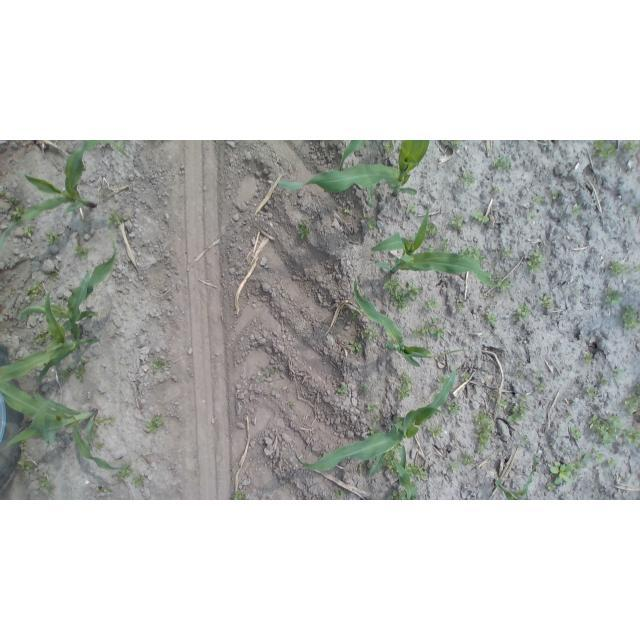Maize: (294, 363, 458, 478), (0, 141, 128, 249), (1, 375, 124, 474), (371, 202, 501, 286), (352, 278, 472, 366), (19, 235, 117, 342), (1, 288, 100, 386), (276, 140, 432, 198), (494, 453, 538, 500), (389, 445, 419, 500)
Weeds: (548, 451, 590, 488), (383, 274, 422, 312), (587, 413, 623, 444), (474, 410, 495, 454), (412, 318, 446, 339), (508, 394, 531, 422), (591, 140, 617, 161), (396, 372, 414, 400), (624, 384, 640, 415), (621, 305, 640, 331), (527, 250, 546, 273), (461, 246, 486, 263), (408, 463, 429, 481), (37, 476, 55, 495), (107, 211, 131, 225), (605, 287, 623, 305), (26, 281, 44, 299), (383, 451, 397, 474), (625, 426, 640, 447), (258, 366, 277, 382), (611, 260, 630, 276), (76, 359, 89, 382), (147, 416, 164, 433), (17, 456, 35, 472), (118, 463, 133, 482), (359, 326, 378, 341), (517, 301, 531, 321), (496, 155, 513, 171), (34, 330, 52, 345), (622, 141, 640, 156), (496, 275, 512, 291), (11, 203, 26, 220), (451, 214, 466, 230), (95, 416, 116, 427), (427, 425, 443, 439), (363, 213, 377, 229), (458, 453, 475, 466), (298, 221, 310, 239), (349, 339, 364, 353), (425, 224, 440, 238), (152, 359, 167, 373), (539, 294, 553, 309), (74, 246, 91, 258), (389, 489, 407, 500), (570, 426, 583, 441), (46, 231, 59, 246), (473, 211, 489, 223), (447, 400, 460, 414), (60, 367, 73, 381), (368, 186, 377, 206), (22, 224, 35, 237), (612, 367, 625, 380), (462, 174, 475, 187), (383, 141, 396, 154), (47, 269, 60, 282), (231, 490, 247, 500), (426, 298, 439, 310), (406, 202, 418, 215), (570, 204, 583, 216), (584, 387, 596, 399), (336, 383, 348, 395), (132, 475, 145, 486), (484, 313, 497, 324), (536, 381, 549, 392), (583, 352, 594, 365), (503, 246, 514, 258), (496, 398, 508, 409), (593, 450, 604, 462), (367, 403, 380, 413), (333, 487, 346, 497), (437, 375, 448, 386), (519, 435, 529, 447), (455, 300, 465, 312), (531, 194, 543, 204), (93, 441, 104, 451), (92, 428, 101, 440), (357, 464, 365, 477), (367, 425, 377, 435), (597, 376, 608, 385), (440, 239, 449, 250), (351, 309, 360, 320), (546, 482, 557, 491), (550, 189, 559, 200), (392, 444, 402, 453), (98, 487, 110, 494), (492, 186, 501, 195), (361, 385, 370, 394), (450, 461, 458, 471), (607, 459, 618, 466), (564, 412, 573, 420), (374, 415, 382, 424), (534, 370, 542, 379), (462, 374, 470, 383), (451, 140, 462, 146), (427, 247, 436, 254), (20, 441, 29, 448), (633, 265, 640, 273), (286, 402, 294, 409), (342, 207, 350, 214), (531, 213, 538, 220), (9, 197, 16, 204), (517, 371, 524, 378), (575, 289, 581, 296), (0, 189, 6, 196), (367, 463, 373, 469), (637, 203, 640, 214), (23, 315, 28, 321), (487, 149, 492, 154), (136, 381, 141, 386), (21, 337, 26, 342), (368, 497, 375, 500), (441, 140, 446, 142)
